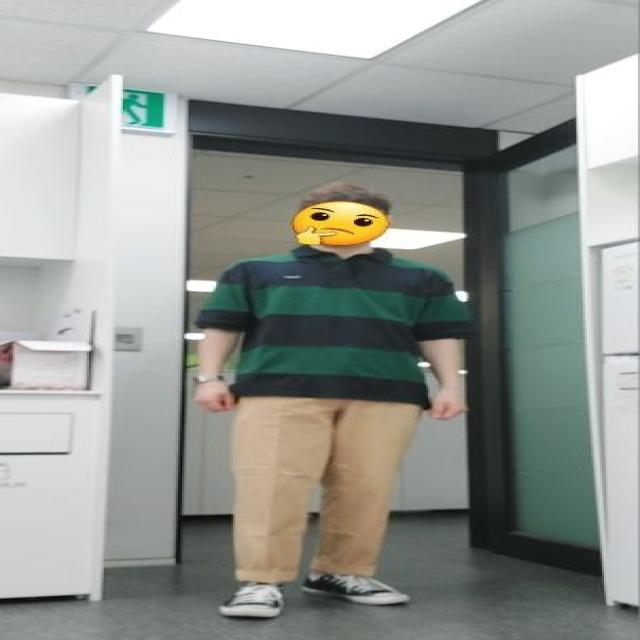cottonpants: (234, 393, 428, 580)
shortsleeve: (199, 247, 480, 406)
